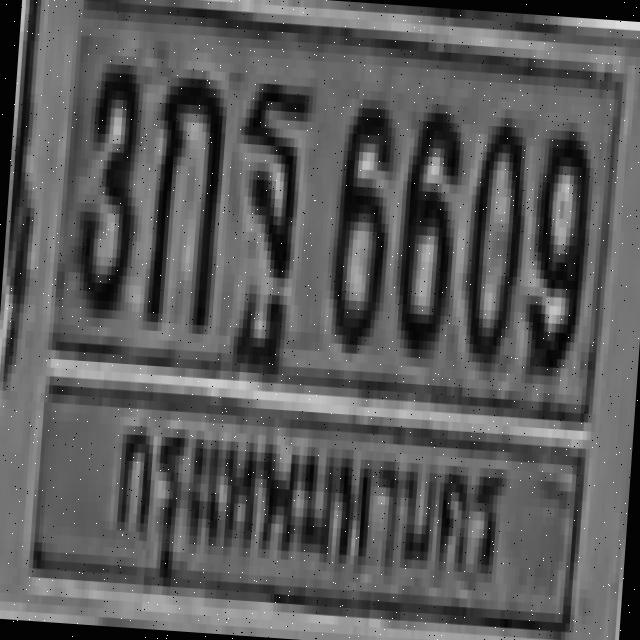0: (457, 107, 528, 356)
10GorGai: (142, 68, 232, 338)
25ThorThan: (223, 73, 310, 374)
3: (70, 54, 142, 310)
6: (322, 89, 394, 346), (391, 94, 463, 350)
9: (522, 120, 593, 369)
Bangkok: (92, 391, 520, 618)
